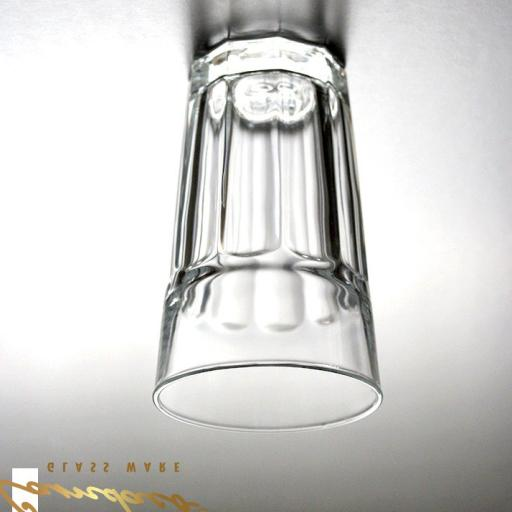cup: (154, 38, 381, 432)
